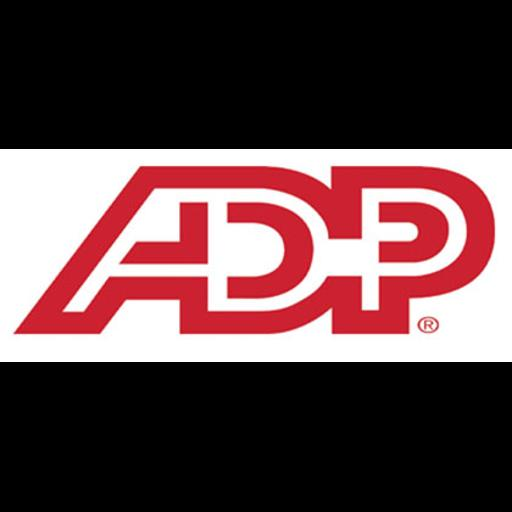ADP: (0, 149, 512, 362)
